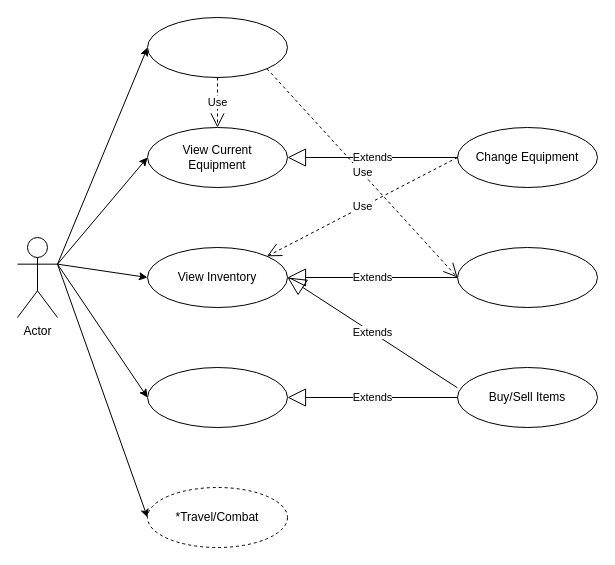
Image size: 615x565. Some labels were removed from this diagram. Each missing label, with the centre of its shape:
"Use Item" belongs at [527,277].
"View Shop" belongs at [217,397].
"View Status" belongs at [217,47].
